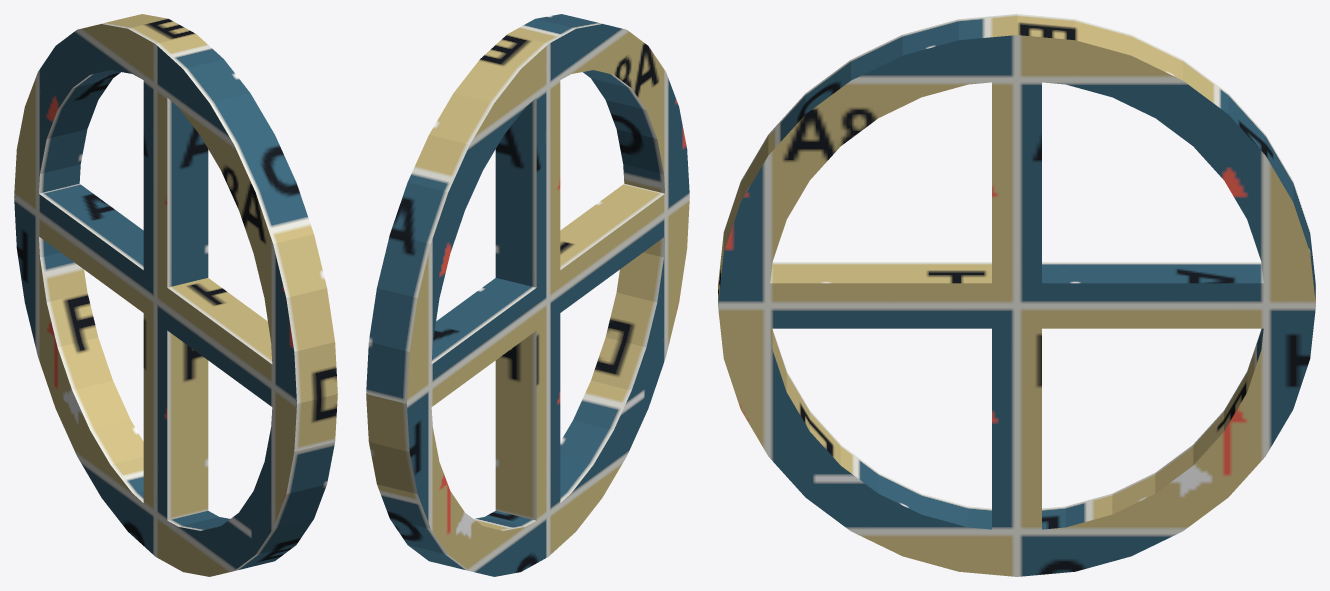
The model's file is PIPE_ValveWheel.fbx.
The picture shows the model from 3 angles, left to right: view 1: azimuth 30°, elevation 25°; view 2: azimuth 150°, elevation 25°; view 3: azimuth 270°, elevation 25°; orthographic projection. The views are drawn at different scales.
Parts seen in each view (by area): view 1: PIPE_ValveWheel; view 2: PIPE_ValveWheel; view 3: PIPE_ValveWheel.
Part boxes in pixels (bbox=[...]): PIPE_ValveWheel: bbox=[14, 14, 337, 576]; PIPE_ValveWheel: bbox=[366, 14, 689, 576]; PIPE_ValveWheel: bbox=[718, 14, 1315, 576].
Bounding box in the file's own units: 5 × 60 × 60.
Materials: 1 (1 with a texture image).
